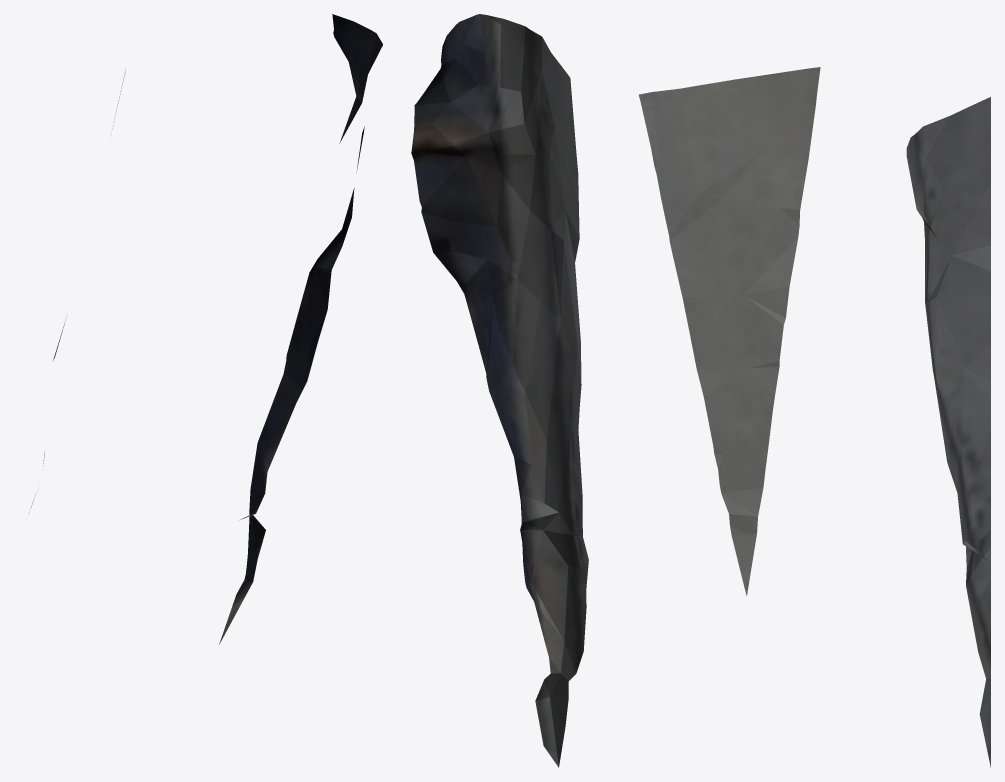
The picture shows the model from 3 angles, left to right: view 1: azimuth 30°, elevation 25°; view 2: azimuth 150°, elevation 25°; view 3: azimuth 270°, elevation 25°; orthographic projection. The views are drawn at different scales.
Bounding box in the file's own units: 0.2646 × 0.522 × 0.1007.
1 material, 1 textured.
